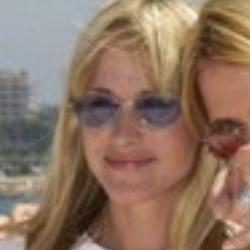face: (19, 2, 207, 243), (185, 1, 250, 197)
